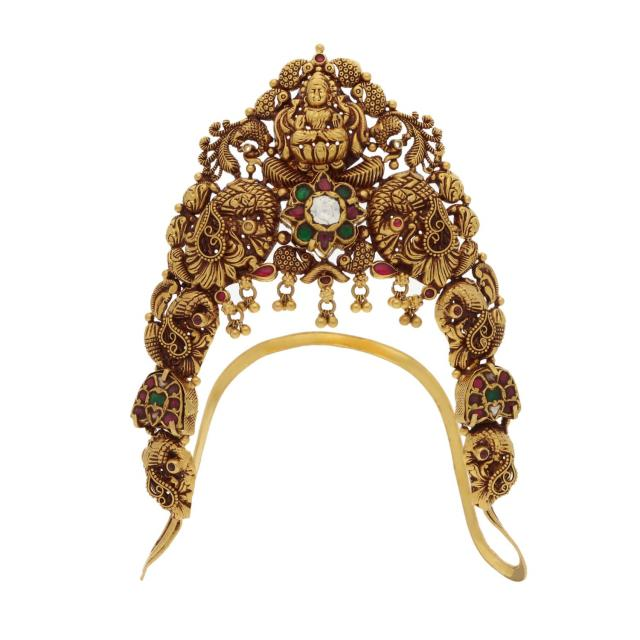missing gem: (307, 193, 345, 229)
